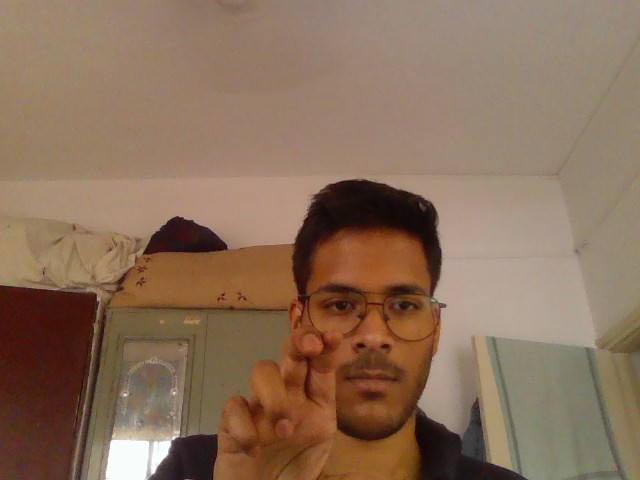no: (188, 313, 375, 480)
